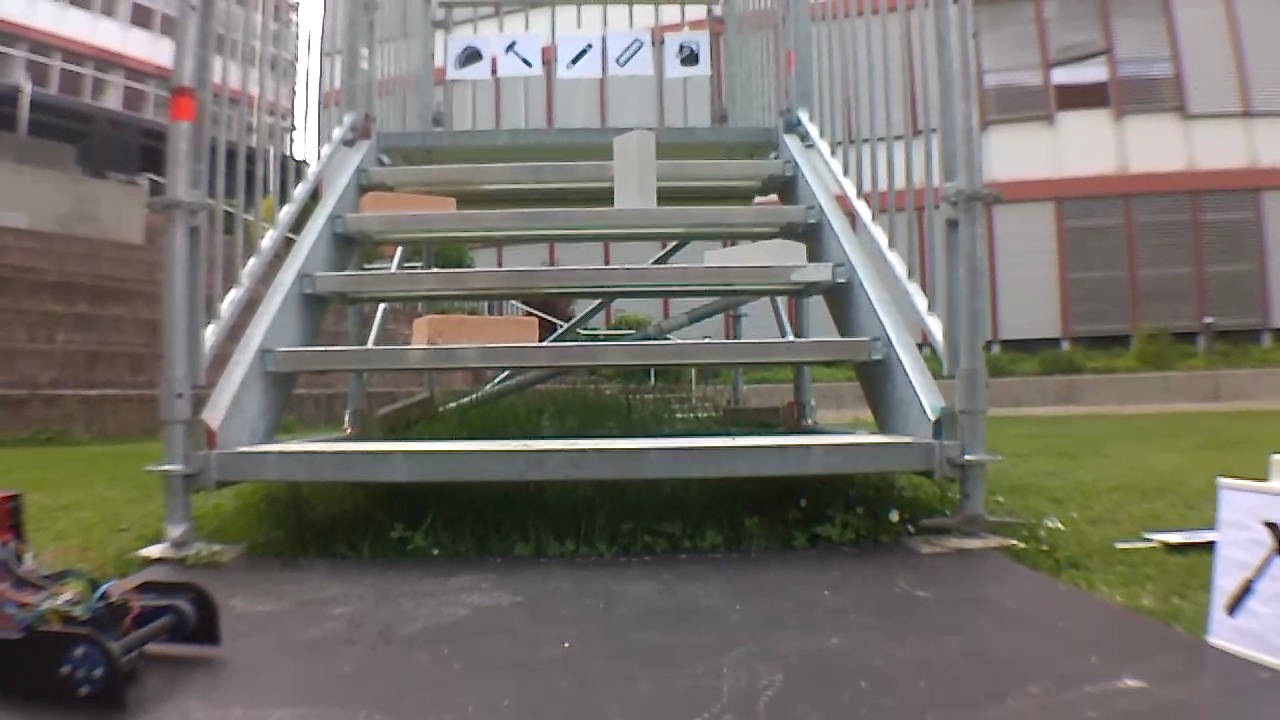brick: (410, 314, 537, 344), (613, 131, 656, 206), (703, 239, 804, 264), (359, 192, 454, 213)
bucket: (669, 34, 705, 69)
edge: (217, 439, 936, 480), (262, 337, 889, 368), (300, 262, 849, 291), (335, 204, 824, 231), (362, 159, 794, 182), (378, 127, 773, 143)
hammer: (499, 36, 537, 74)
pencil: (559, 35, 595, 75)
ruler: (610, 33, 644, 72)
stairs: (148, 1, 994, 558)
steps: (213, 123, 943, 485)
taco: (449, 42, 485, 75)
